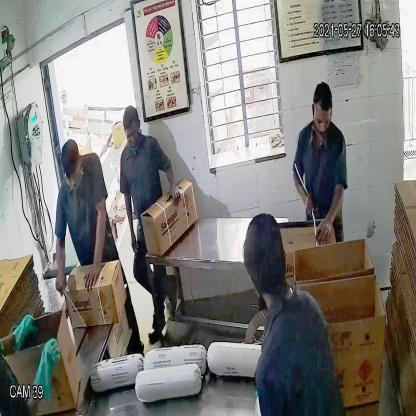no_goggles: (310, 107, 334, 132)
